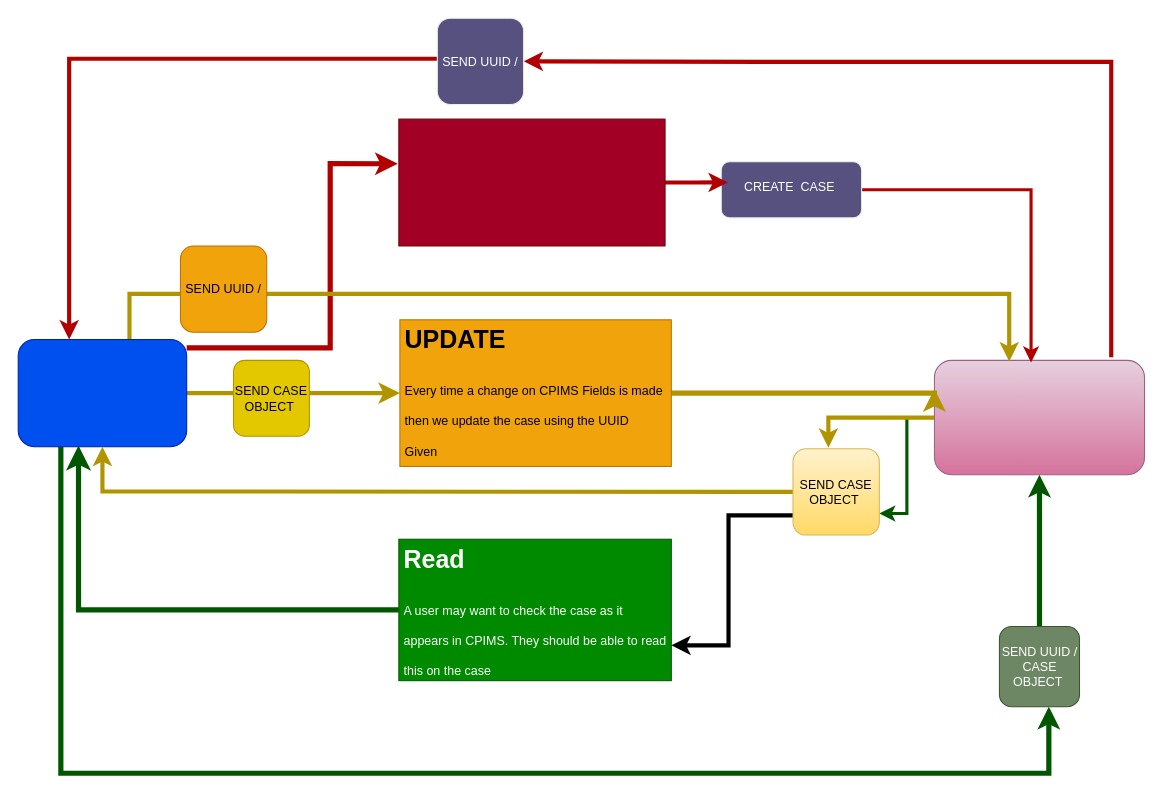
Image size: 1163x802. Some labels were removed from this diagram. Each missing label, with the centre of its shape:
CPIMS: the point at 1039,417
CREATE Happens every time a New Case is created in OPENCHS.: the point at 531,182
OPENCHS: the point at 102,393
